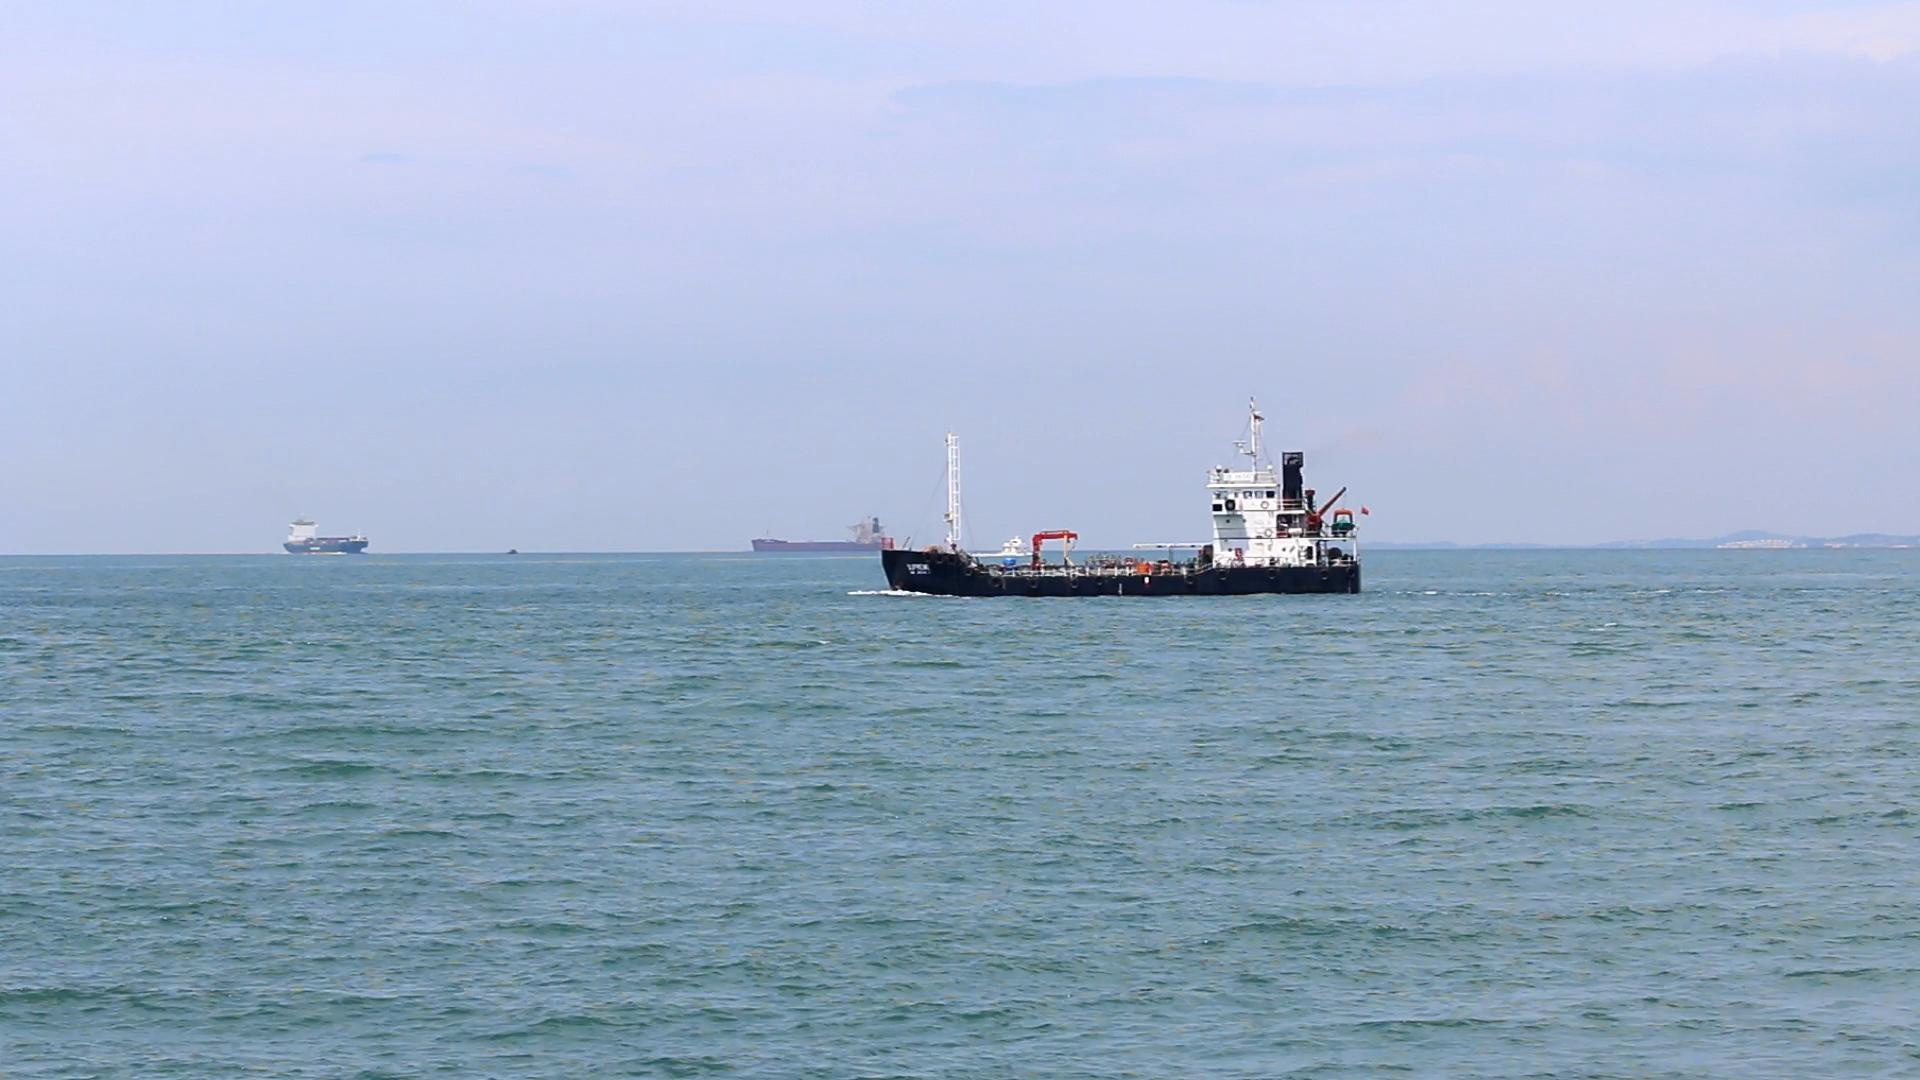Container Ship: (870, 392, 1369, 600), (749, 506, 903, 555), (281, 509, 375, 555)
